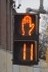stop: (13, 12, 38, 39)
